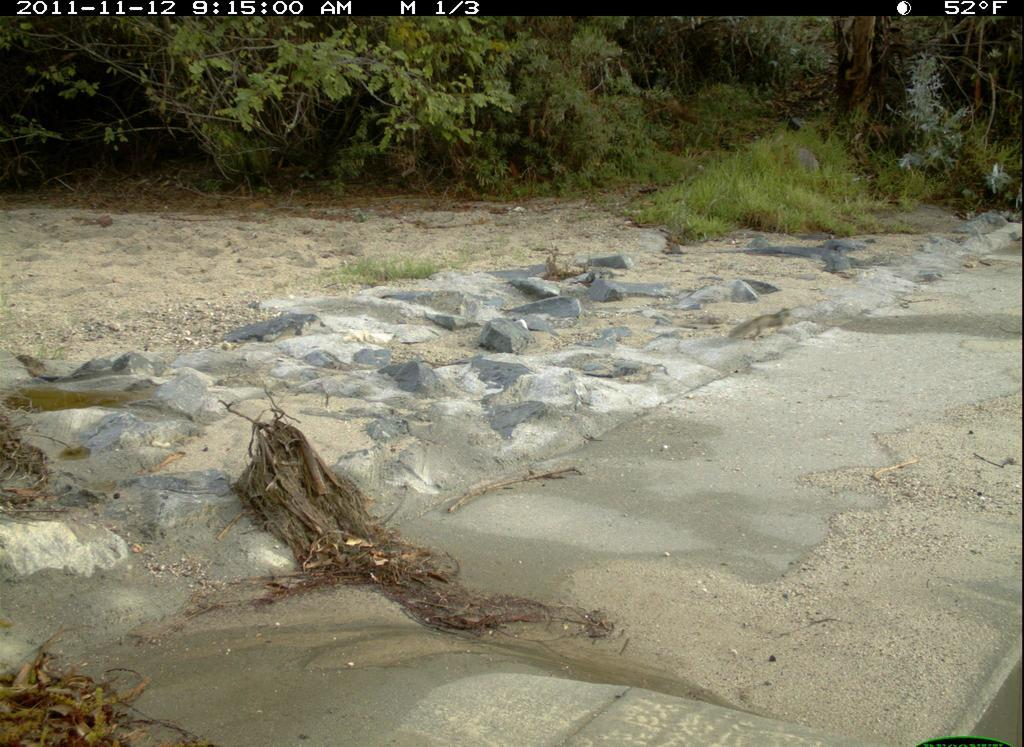squirrel: (728, 303, 801, 349)
